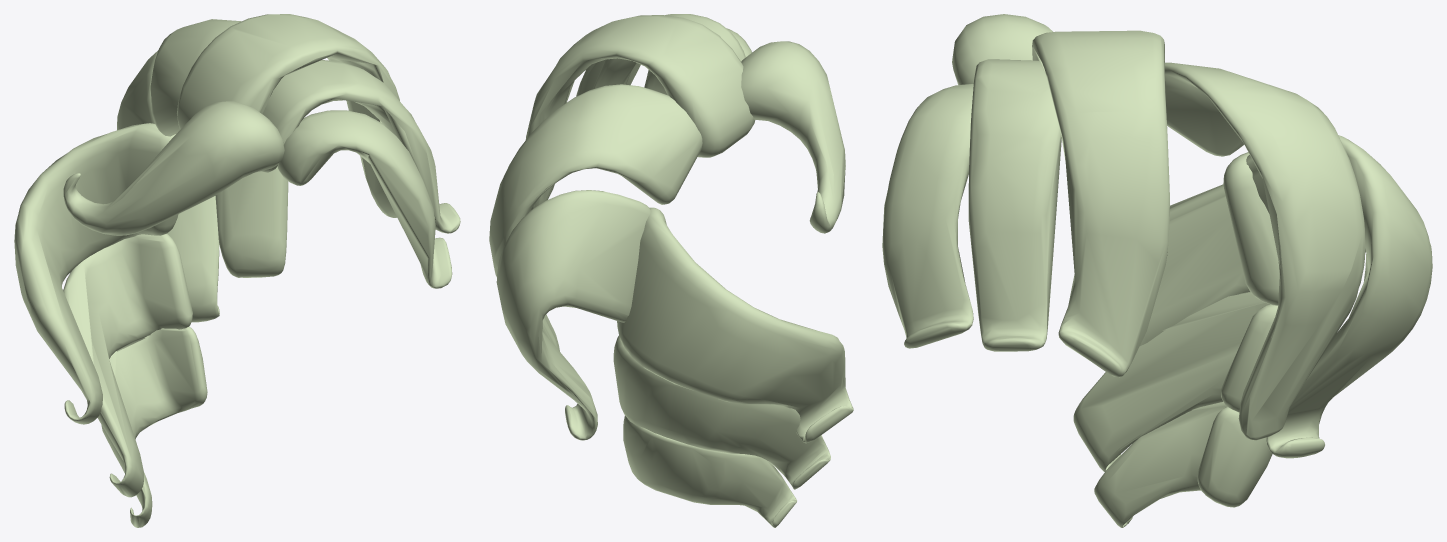
The model's file is Mane_10.fbx.
3 views of the same model, side by side, from view 1: azimuth 30°, elevation 25°; view 2: azimuth 150°, elevation 25°; view 3: azimuth 270°, elevation 25° (orthographic). The views are drawn at different scales.
Parts seen in each view (by area): view 1: Mane_10; view 2: Mane_10; view 3: Mane_10.
Part boxes in pixels (x1=…): Mane_10: x1=14, y1=14, x2=460, y2=527; Mane_10: x1=489, y1=14, x2=853, y2=527; Mane_10: x1=882, y1=14, x2=1432, y2=527.
Bounding box in the file's own units: 170 × 216 × 191.
